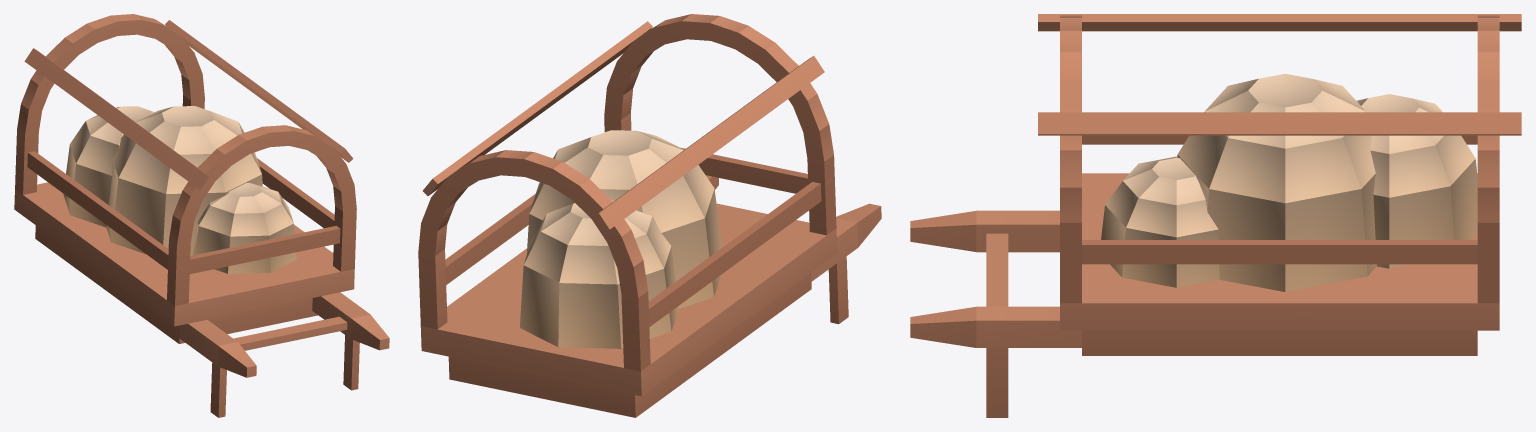
File: cart-high.003_lev2.glb
3 views of the same model, side by side, from view 1: azimuth 30°, elevation 25°; view 2: azimuth 150°, elevation 25°; view 3: azimuth 270°, elevation 25° (orthographic). The views are drawn at different scales.
Visible parts, largest first — view 1: cart-high.003_lev2; view 2: cart-high.003_lev2; view 3: cart-high.003_lev2.
Boxes of the visible parts, <box> form: cart-high.003_lev2: <box>14,14,389,417</box>; cart-high.003_lev2: <box>418,14,881,417</box>; cart-high.003_lev2: <box>910,14,1521,417</box>.
Size of the model in its own units: 0.8569 by 1.13 by 1.81.
1 material, 1 textured.
